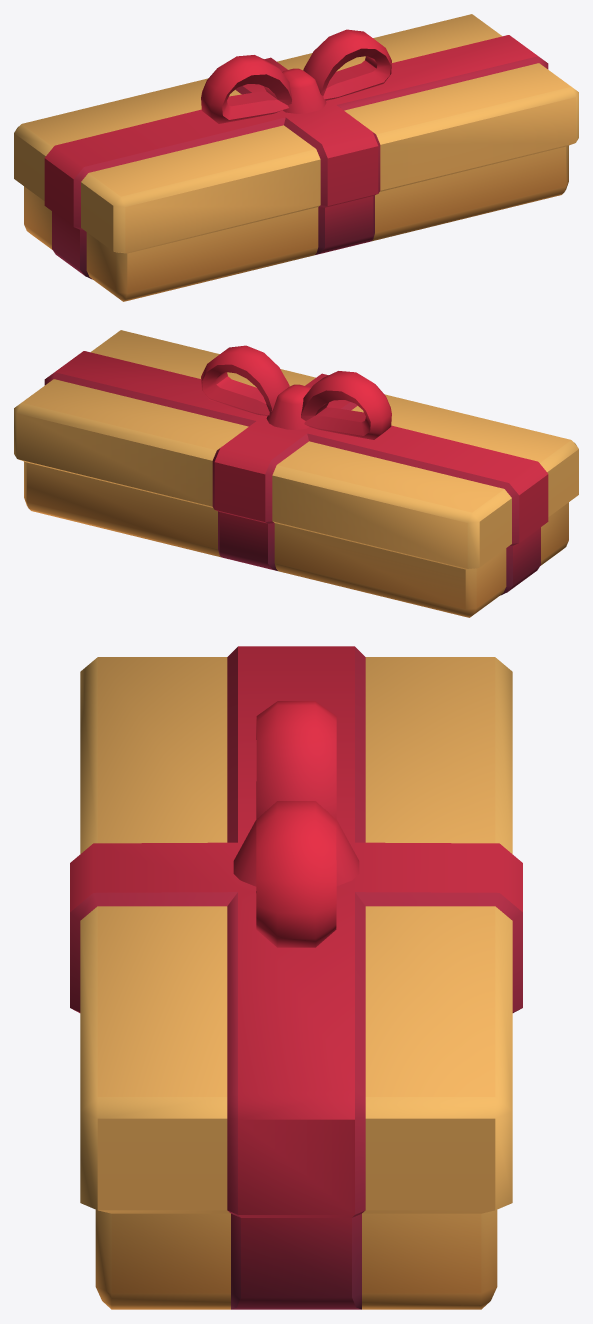
The model's file is present_E_yellow.glb.
3 renders of one model, top to bottom at view 1: azimuth 30°, elevation 25°; view 2: azimuth 150°, elevation 25°; view 3: azimuth 270°, elevation 25°, orthographic. The views are drawn at different scales.
Visible parts, largest first — view 1: present_E_yellow; view 2: present_E_yellow; view 3: present_E_yellow.
Part boxes in pixels (bbox=[...]): present_E_yellow: bbox=[14, 14, 578, 301]; present_E_yellow: bbox=[14, 330, 578, 617]; present_E_yellow: bbox=[70, 646, 522, 1309].
Bounding box in the file's own units: 1.36 × 0.4617 × 0.5638.
Materials: 1 (1 with a texture image).
